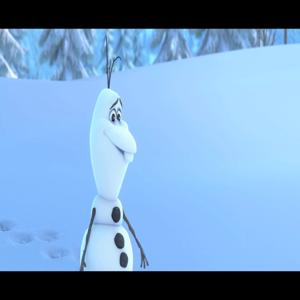olaf: (85, 42, 148, 269)
